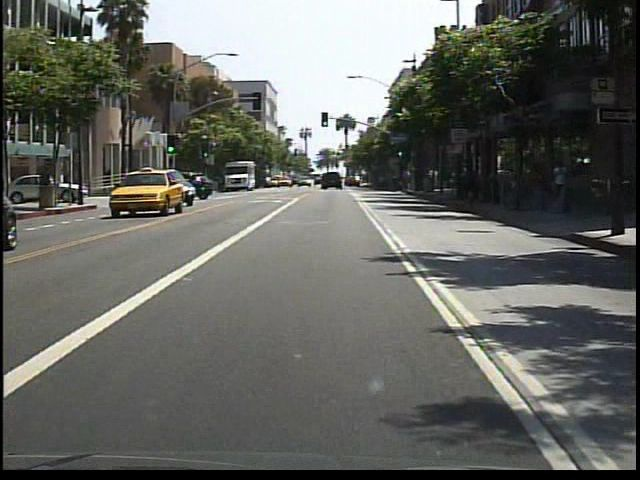person: (547, 157, 571, 228)
